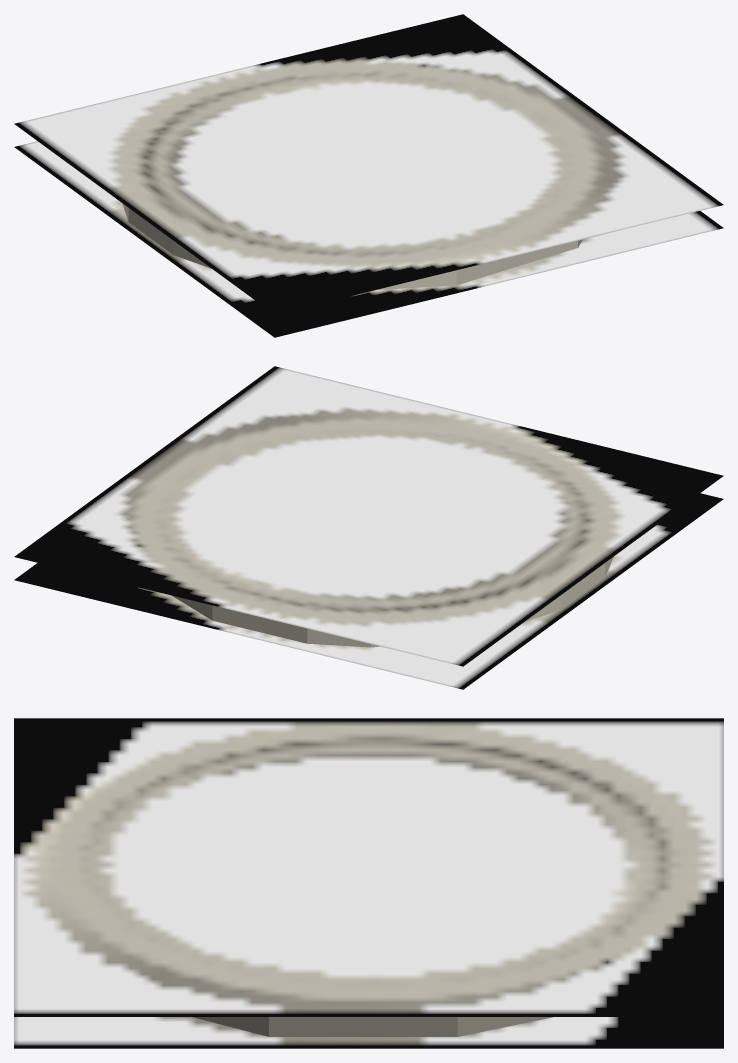
The model's file is pz_native_fixtures_windows_church_127_frame.obj.
The picture shows the model from 3 angles, top to bottom: view 1: azimuth 30°, elevation 25°; view 2: azimuth 150°, elevation 25°; view 3: azimuth 270°, elevation 25°; orthographic projection. The views are drawn at different scales.
Parts seen in each view (by area): view 1: pz_native_fixtures_windows_church_127_frame; view 2: pz_native_fixtures_windows_church_127_frame; view 3: pz_native_fixtures_windows_church_127_frame.
Part boxes in pixels (x1,y1,x2,y2): pz_native_fixtures_windows_church_127_frame: (14, 14, 723, 337); pz_native_fixtures_windows_church_127_frame: (14, 366, 723, 689); pz_native_fixtures_windows_church_127_frame: (14, 718, 723, 1048).
Size of the model in its own units: 0.8125 by 0.04 by 0.8165.
1 material, 1 textured.
